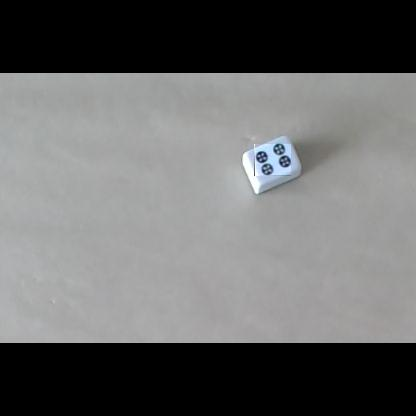4p: (254, 144, 291, 176)
